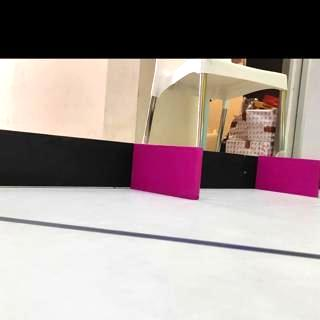xparking: (136, 150, 200, 196), (261, 162, 318, 192)
